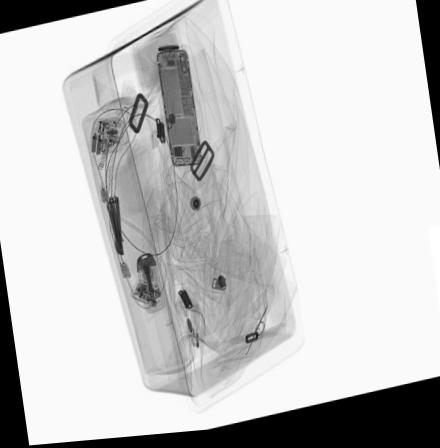Lighter: (189, 292, 200, 353)
